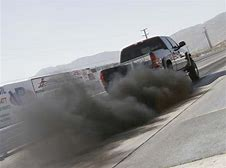smoke: (21, 67, 194, 163)
